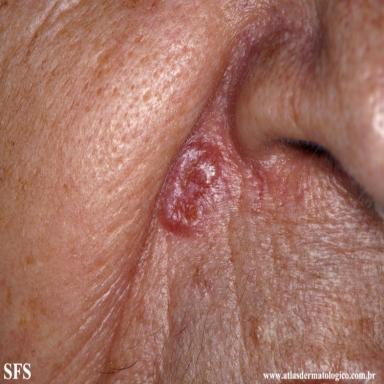basal-cell-carcinoma: (158, 137, 223, 237)
